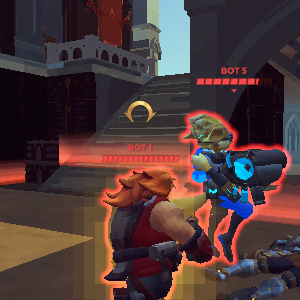model: (92, 163, 205, 300), (185, 104, 267, 263)
